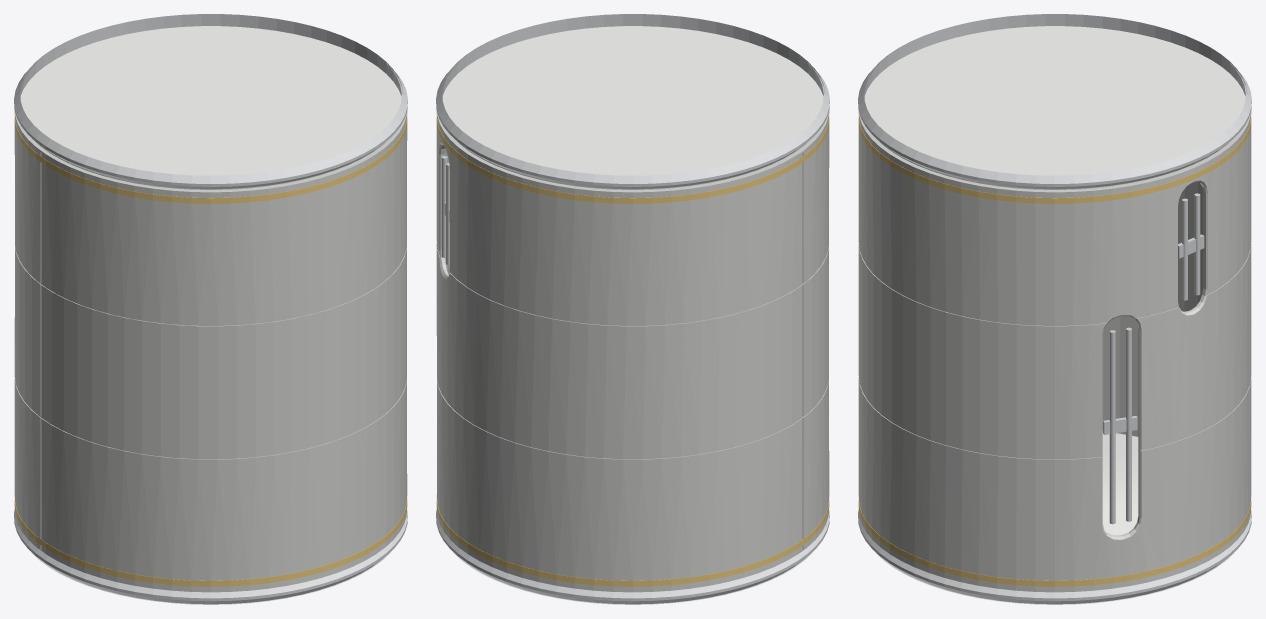
File: ax_tank_05_hydrolox_xl_short.glb
3 renders of one model, left to right at view 1: azimuth 30°, elevation 25°; view 2: azimuth 150°, elevation 25°; view 3: azimuth 270°, elevation 25°, orthographic.
Parts seen in each view (by area): view 1: mli_blanket, dome_caps, end_rings, blanket_bands; view 2: mli_blanket, dome_caps, end_rings, blanket_bands, raceway_lines; view 3: mli_blanket, dome_caps, end_rings, blanket_bands, raceway_lines.
Part boxes in pixels (x1,y1,x2,y2): mli_blanket: [14, 111, 407, 592]; dome_caps: [20, 26, 401, 189]; end_rings: [14, 14, 407, 604]; blanket_bands: [14, 113, 407, 586]; mli_blanket: [436, 111, 829, 592]; dome_caps: [442, 26, 823, 189]; end_rings: [436, 14, 829, 604]; blanket_bands: [436, 113, 829, 586]; raceway_lines: [441, 156, 449, 271]; mli_blanket: [858, 111, 1251, 592]; dome_caps: [864, 26, 1245, 535]; end_rings: [858, 14, 1251, 604]; blanket_bands: [858, 113, 1251, 586]; raceway_lines: [1103, 193, 1204, 524].
Bounding box in the file's own units: 5 × 6 × 5.
